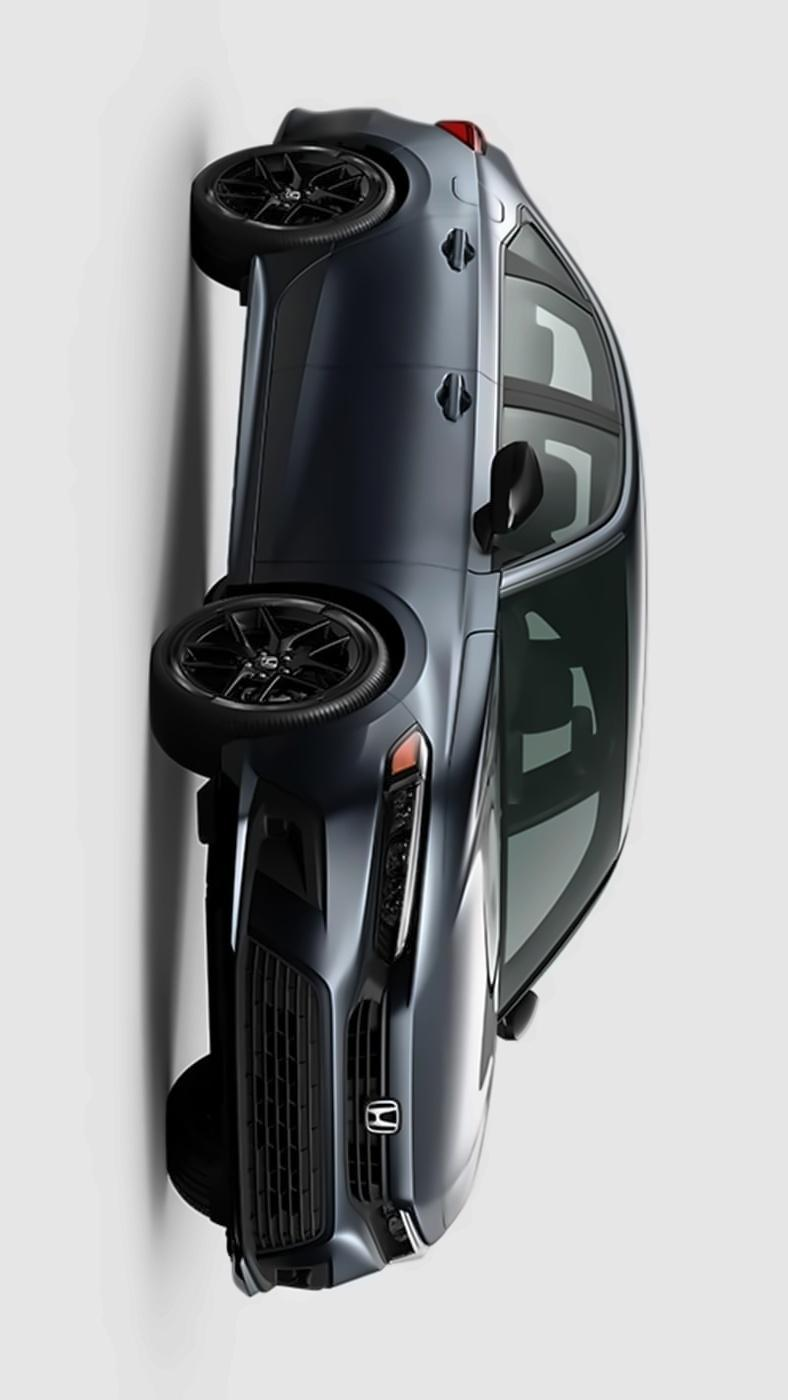Car hood: (408, 603, 517, 1253)
Driver-s door - -F-R-: (205, 345, 650, 597)
Fender - -F-R-: (248, 498, 521, 746)
Fender - -R-R-: (290, 95, 595, 264)
Front bumper: (198, 697, 417, 1299)
Headlight - -L-: (368, 1200, 437, 1279)
Headlight - -R-: (365, 723, 435, 1006)
Passenger-s door - -R-R-: (210, 238, 650, 428)
Rear bumper: (260, 85, 426, 162)
Rear light - -R-: (425, 105, 497, 164)
Side bumper - -R-: (198, 240, 337, 590)
Side mirror - -R-: (453, 433, 541, 559)
